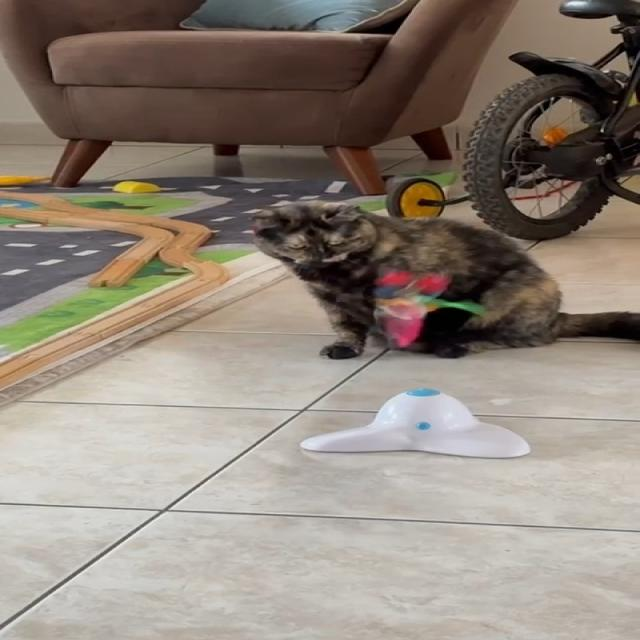authorized: (249, 199, 639, 360)
